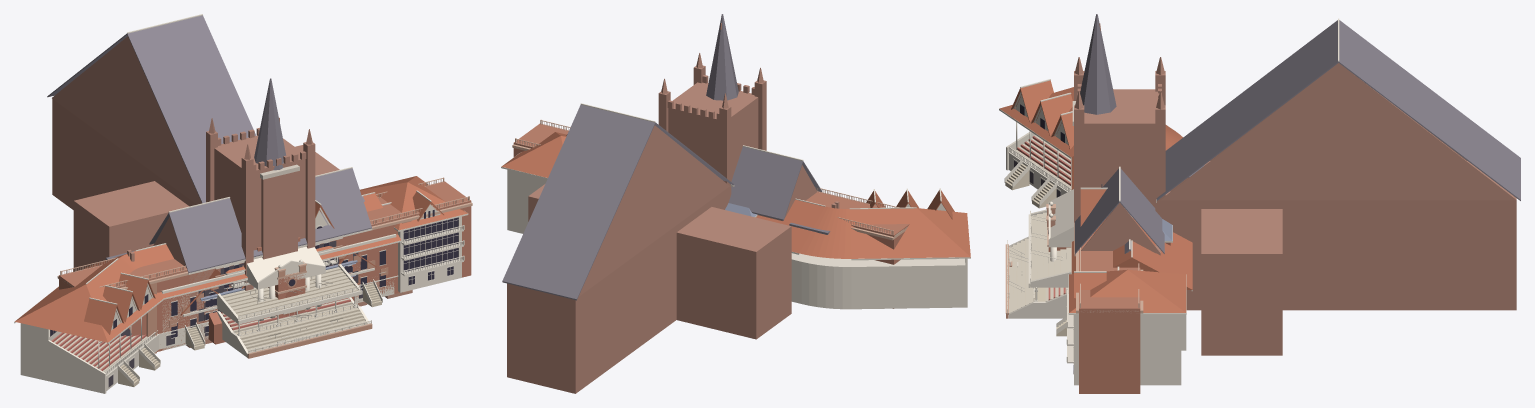
Rendered from chester_stands_kit.glb.
3 views of the same model, side by side, from view 1: azimuth 30°, elevation 25°; view 2: azimuth 150°, elevation 25°; view 3: azimuth 270°, elevation 25° (orthographic). The views are drawn at different scales.
Parts seen in each view (by area): view 1: chester_sky_cathedral, chester_county_stand, chester_sky_town_hall, chester_grosvenor_bridge, chester_wt_stand, chester_castle_range, chester_wt_tower, chester_terrace_row, chester_viaduct_span; view 2: chester_sky_cathedral, chester_county_stand, chester_sky_town_hall, chester_grosvenor_bridge; view 3: chester_sky_cathedral, chester_county_stand, chester_grosvenor_bridge, chester_sky_town_hall, chester_wt_stand, chester_castle_range.
Part boxes in pixels (x1,y1,x2,y2): chester_sky_cathedral: (47, 14, 339, 290); chester_county_stand: (14, 176, 468, 393); chester_sky_town_hall: (149, 78, 372, 347); chester_grosvenor_bridge: (57, 177, 472, 353); chester_wt_stand: (214, 264, 372, 358); chester_castle_range: (161, 234, 396, 350); chester_wt_tower: (268, 259, 323, 344); chester_terrace_row: (200, 260, 357, 333); chester_viaduct_span: (208, 245, 353, 343); chester_sky_cathedral: (502, 53, 791, 393); chester_county_stand: (501, 132, 970, 309); chester_sky_town_hall: (706, 14, 821, 220); chester_grosvenor_bridge: (512, 119, 909, 308); chester_sky_cathedral: (1074, 18, 1520, 355); chester_county_stand: (999, 79, 1192, 385); chester_grosvenor_bridge: (1076, 234, 1143, 393); chester_sky_town_hall: (1072, 14, 1164, 256); chester_wt_stand: (1005, 209, 1071, 318); chester_castle_range: (1048, 189, 1073, 261).
Bounding box in the file's own units: 116 × 61 × 103.
